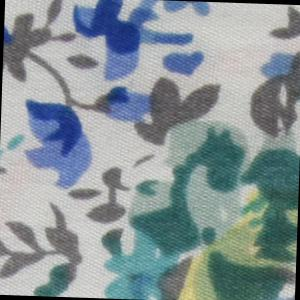Stain: (173, 176, 300, 300)
